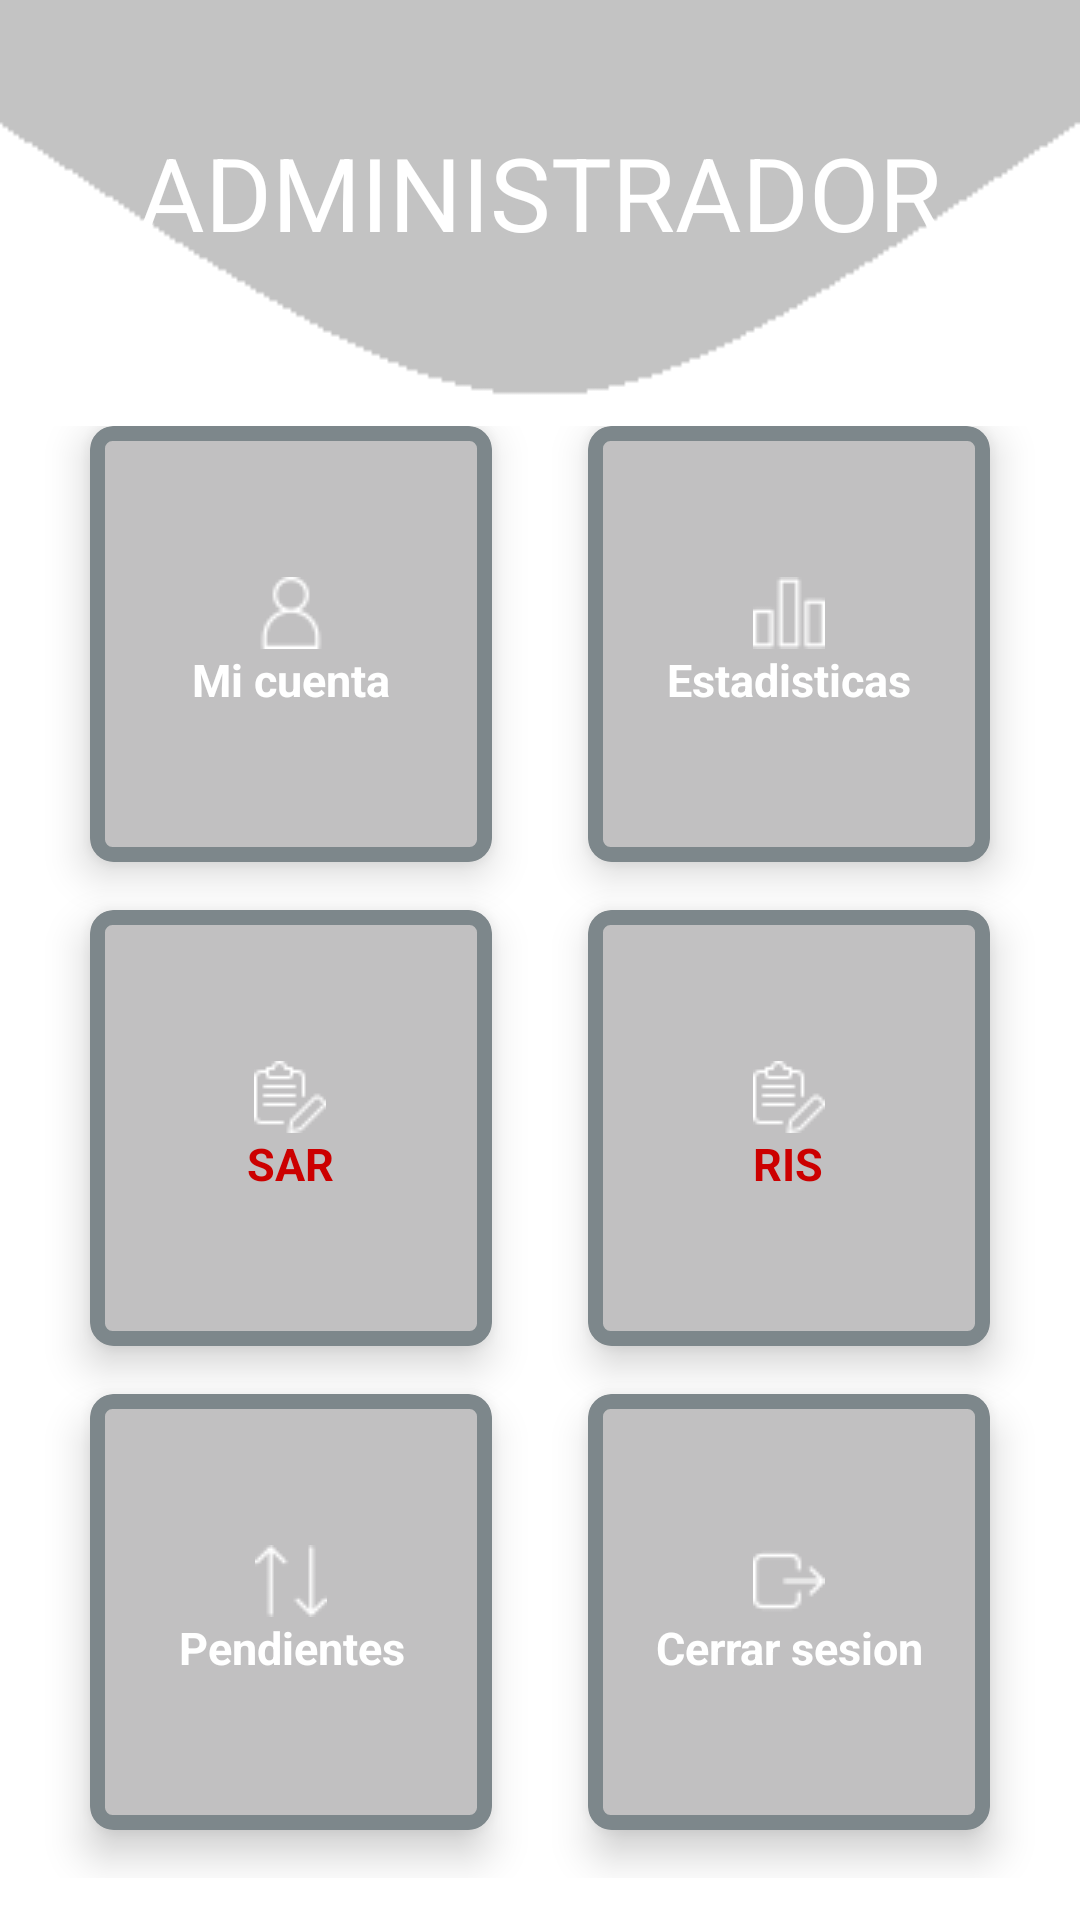

Icons on this 1080x1920 Android screen, each with its box as (x1, y1, x2, y2):
grafico: (753, 579, 825, 647)
ordenar: (255, 1545, 327, 1617)
registro: (254, 1061, 326, 1133), (753, 1061, 825, 1133)
usuario: (263, 577, 319, 649)
